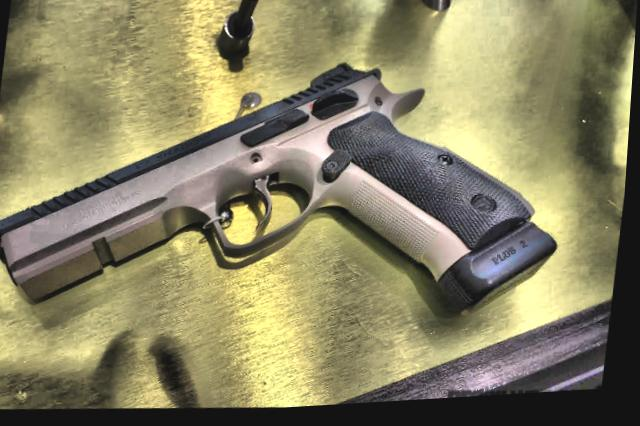pistol: (0, 34, 568, 354)
